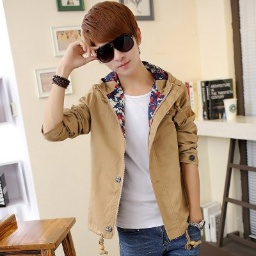face: (81, 1, 142, 76)
